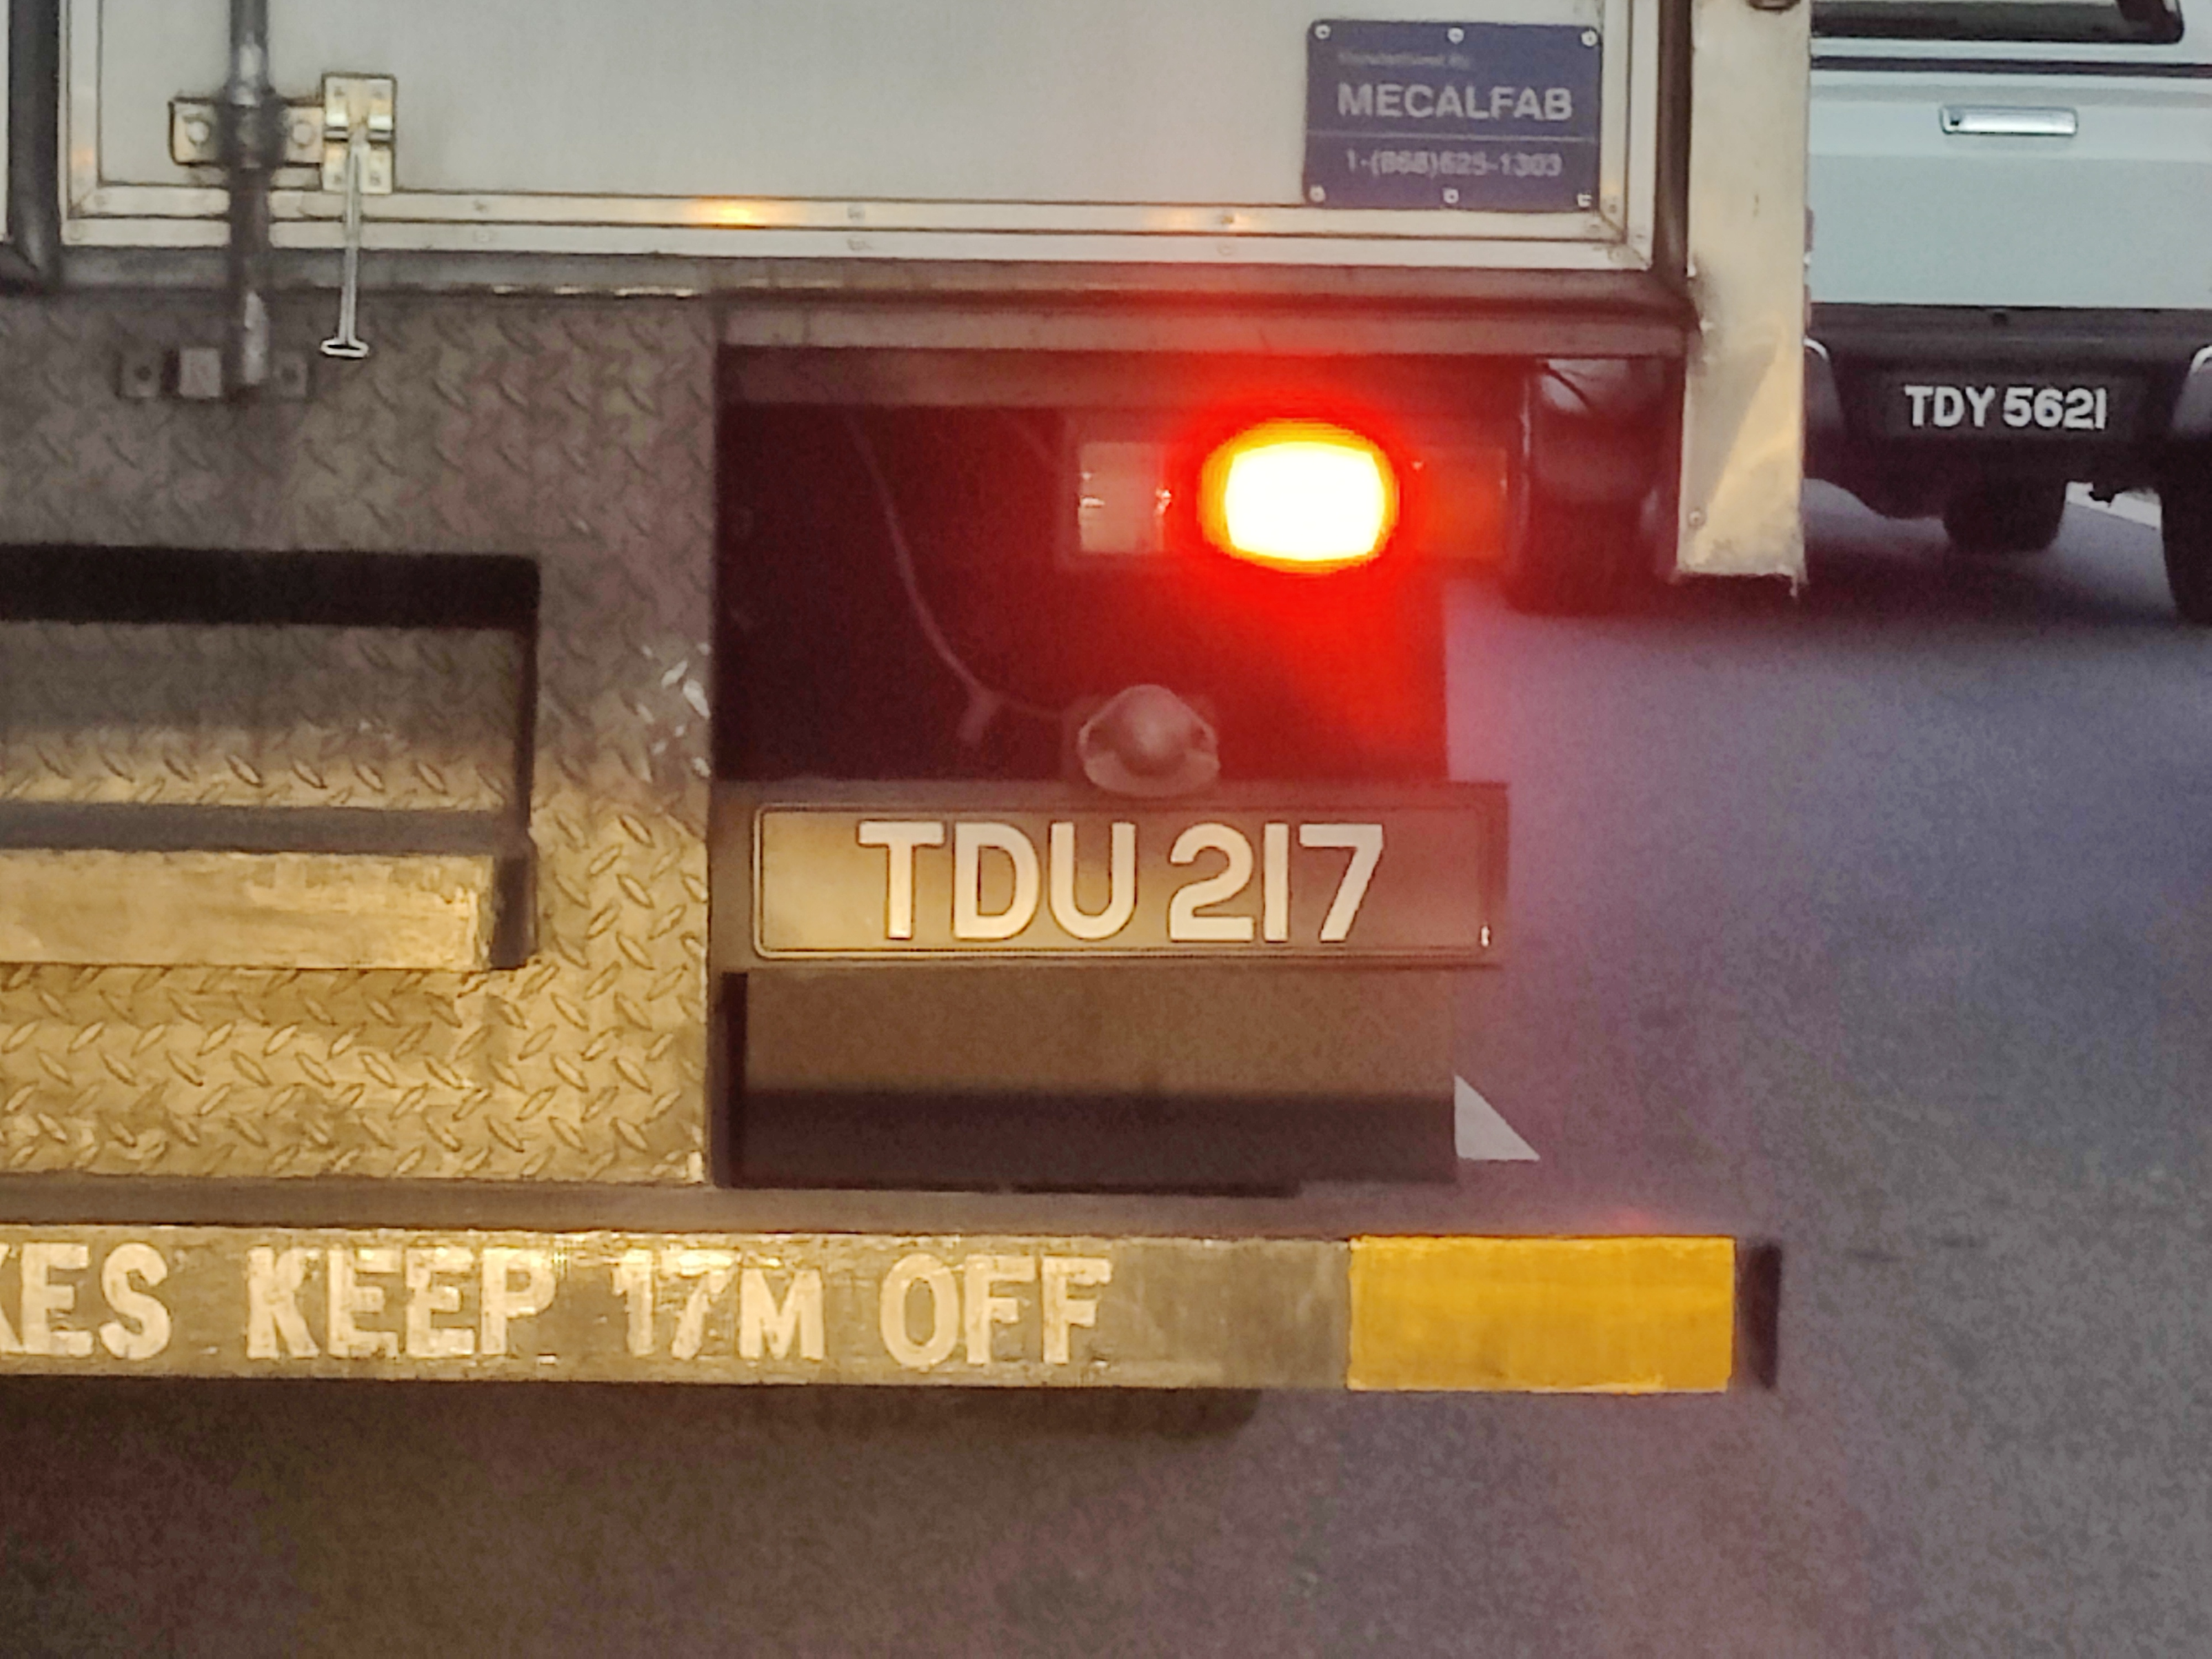License-Plate: (755, 811, 1494, 955), (1886, 378, 2121, 436)
